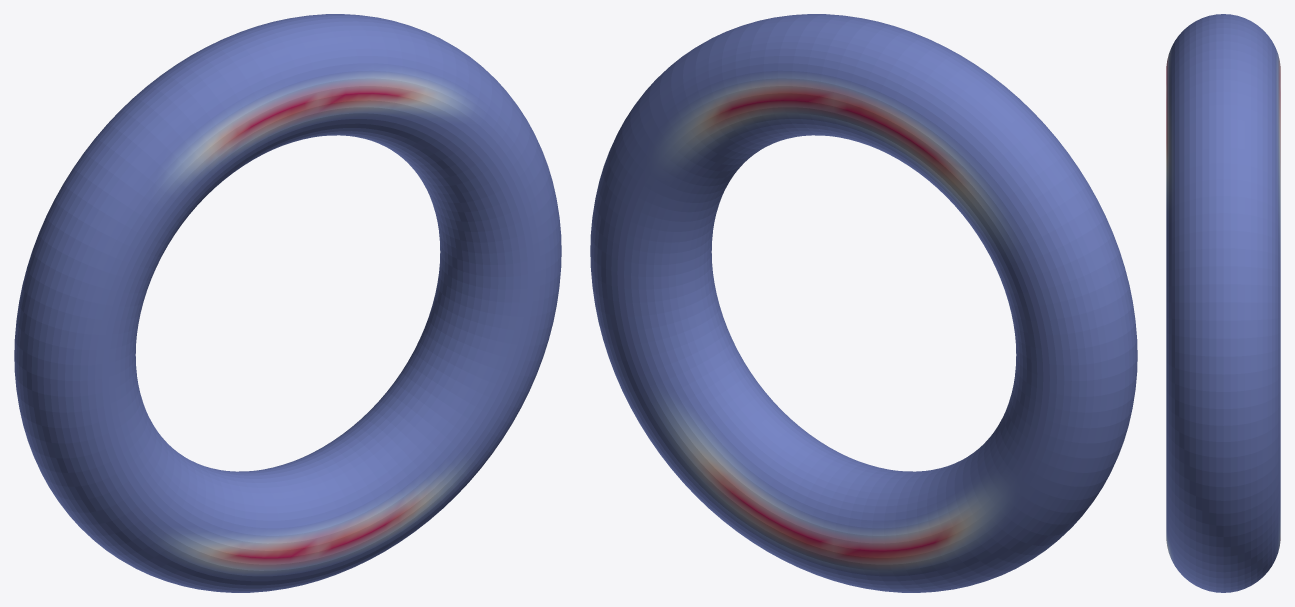
3 views of the same model, side by side, from view 1: azimuth 30°, elevation 25°; view 2: azimuth 150°, elevation 25°; view 3: azimuth 270°, elevation 25° (orthographic). The views are drawn at different scales.
Visible parts, largest first — view 1: world; view 2: world; view 3: world.
Part boxes in pixels (<box>): world: <box>14,14,561,592</box>; world: <box>590,14,1137,592</box>; world: <box>1166,14,1280,592</box>.
Size of the model in its own units: 14.13 by 14.13 by 2.79.
